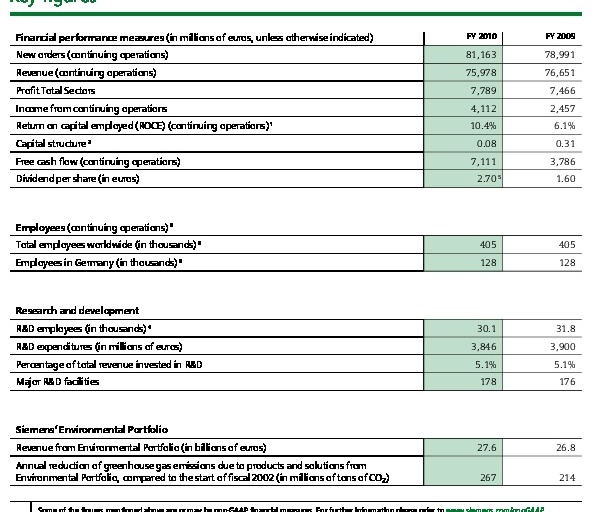table: (0, 0, 595, 512)
